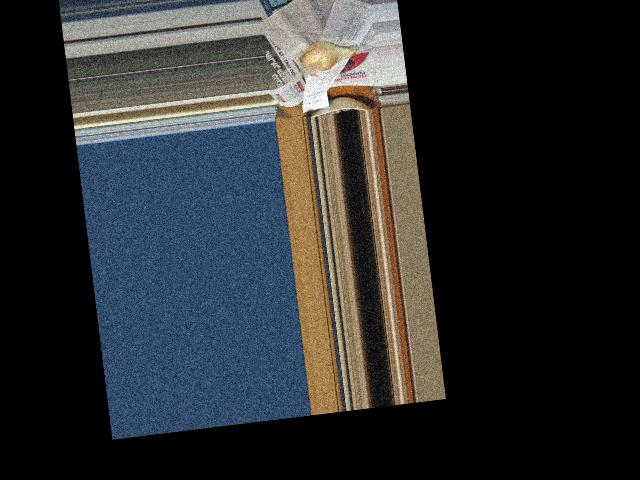onion: (297, 37, 354, 73)
